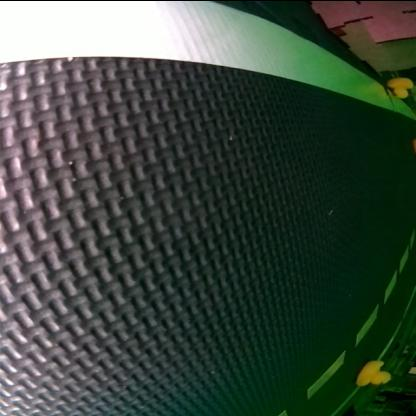Duckie: (357, 359, 393, 385), (386, 76, 414, 96)
